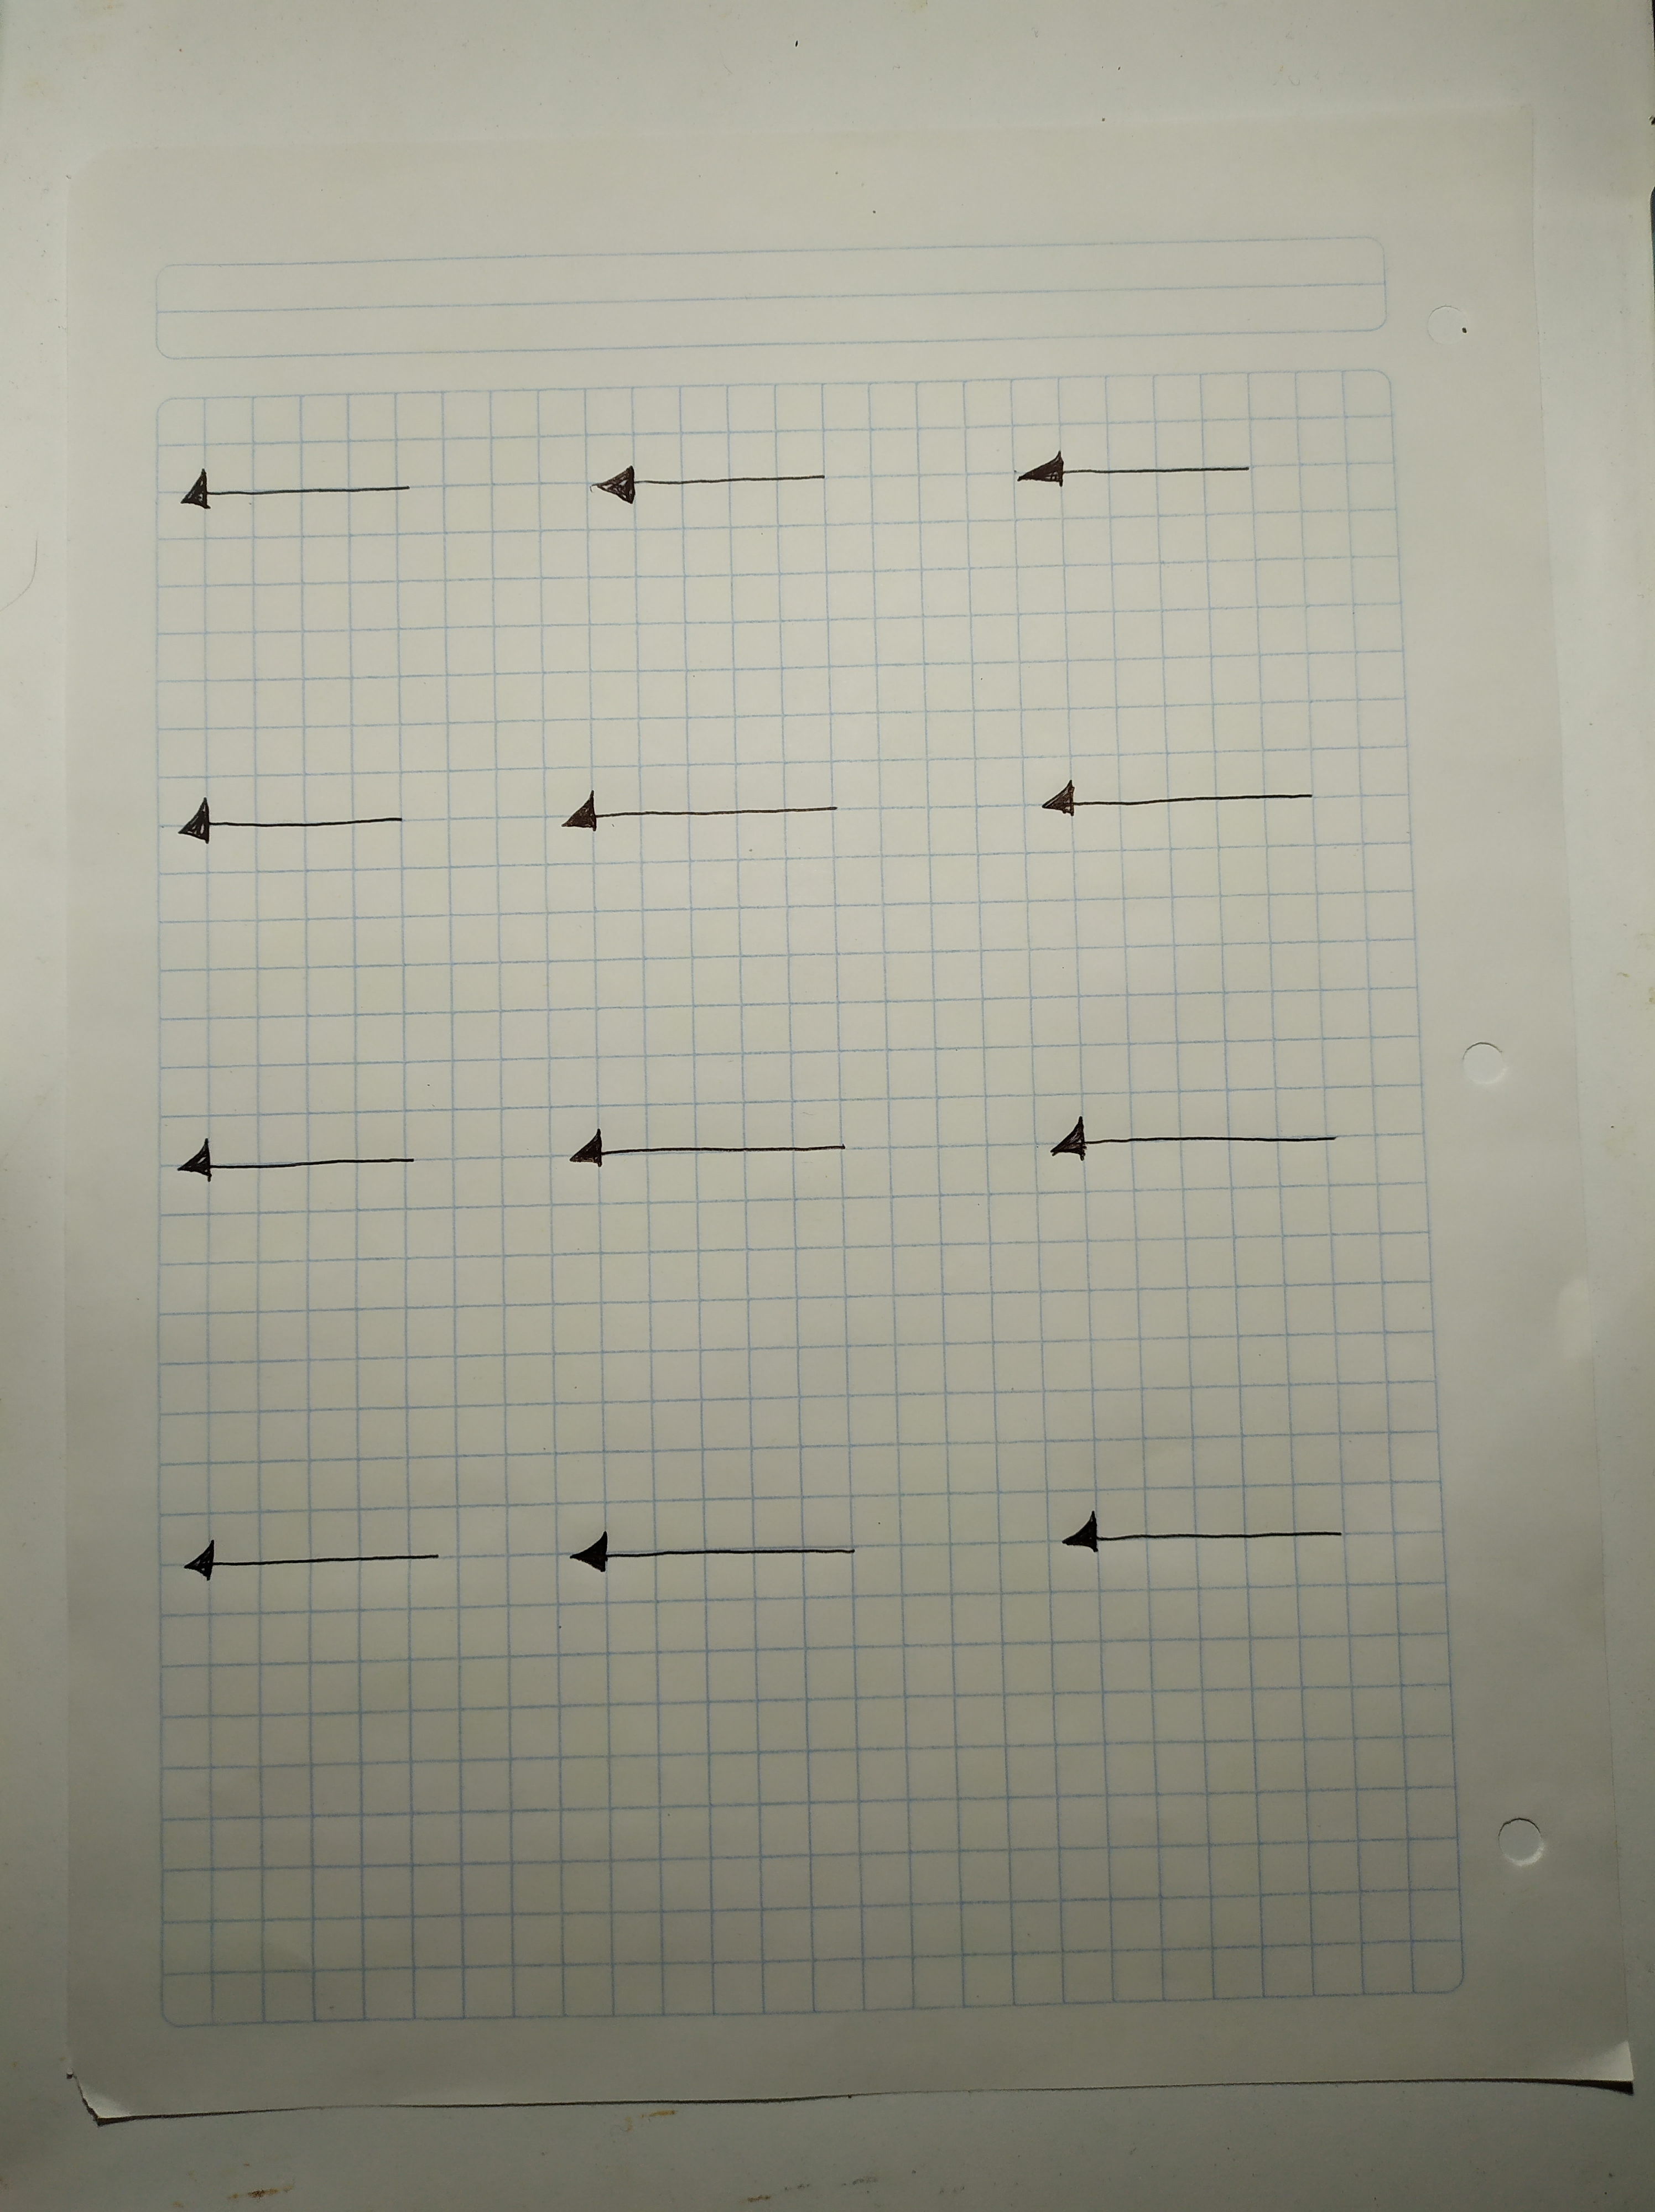arrow_line_left: (523, 770, 878, 860), (150, 1519, 480, 1614), (1012, 1102, 1375, 1183), (542, 1116, 878, 1201), (544, 1513, 894, 1595), (153, 785, 447, 879), (1003, 765, 1339, 846), (1024, 1496, 1361, 1571), (982, 440, 1279, 518), (153, 1124, 443, 1204), (150, 452, 438, 530), (567, 454, 848, 525)
